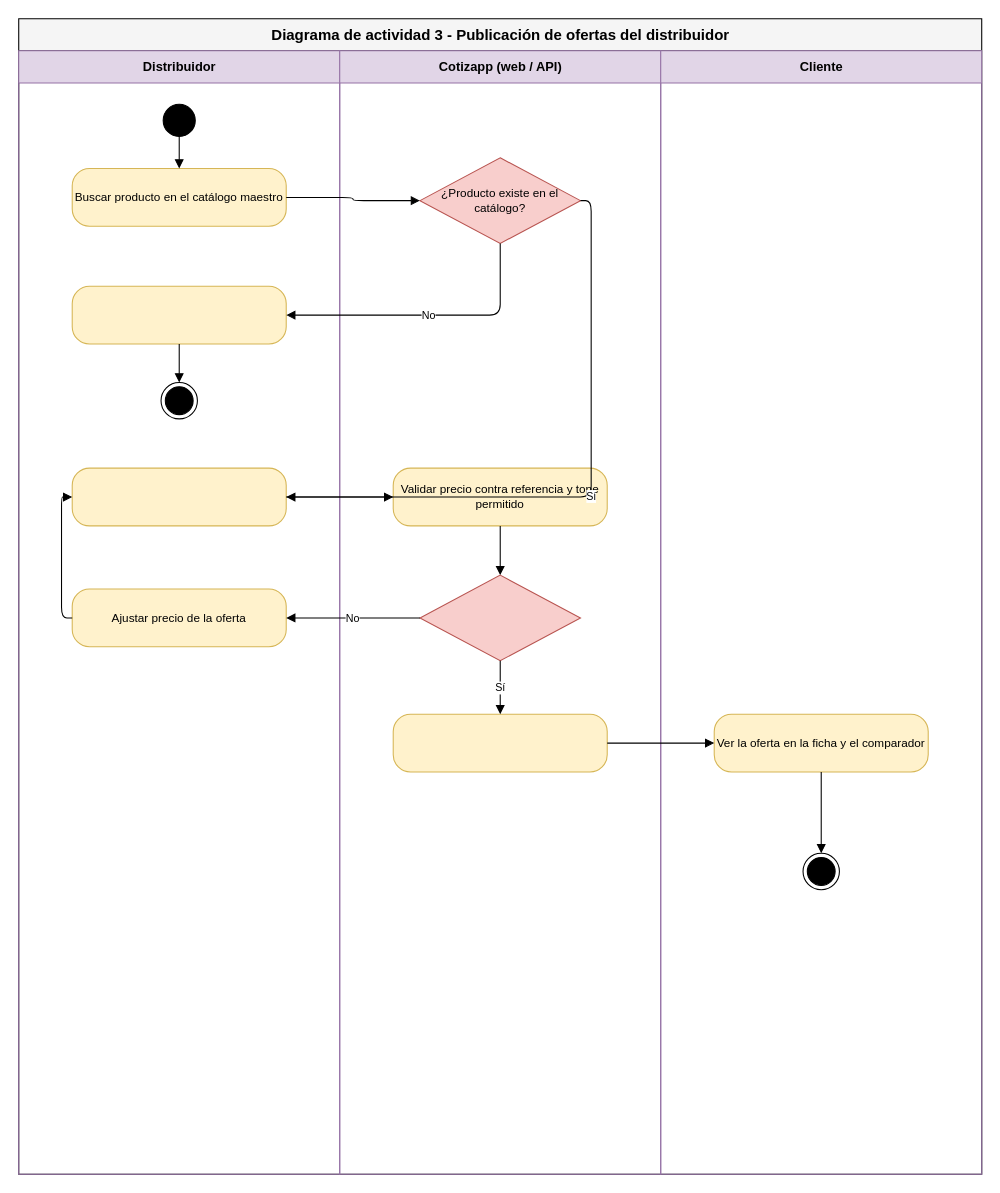
This 1000x1193 diagram has some shape labels left out. The centre of each missing label's shape, as x and y in pixels:
"Ingresar precio, stock y precios por volumen" belongs at [178,496].
"Publicar oferta y guardar historial de precio" belongs at [499,742].
"Solicitar alta del producto al administrador" belongs at [178,314].
"¿Precio válido?" belongs at [499,617].
